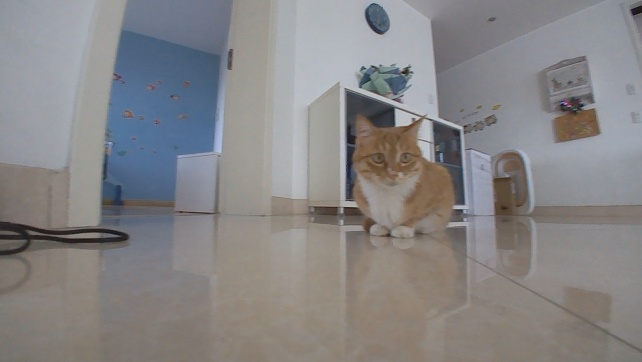cat: (349, 111, 456, 242)
wire: (0, 217, 134, 258)
